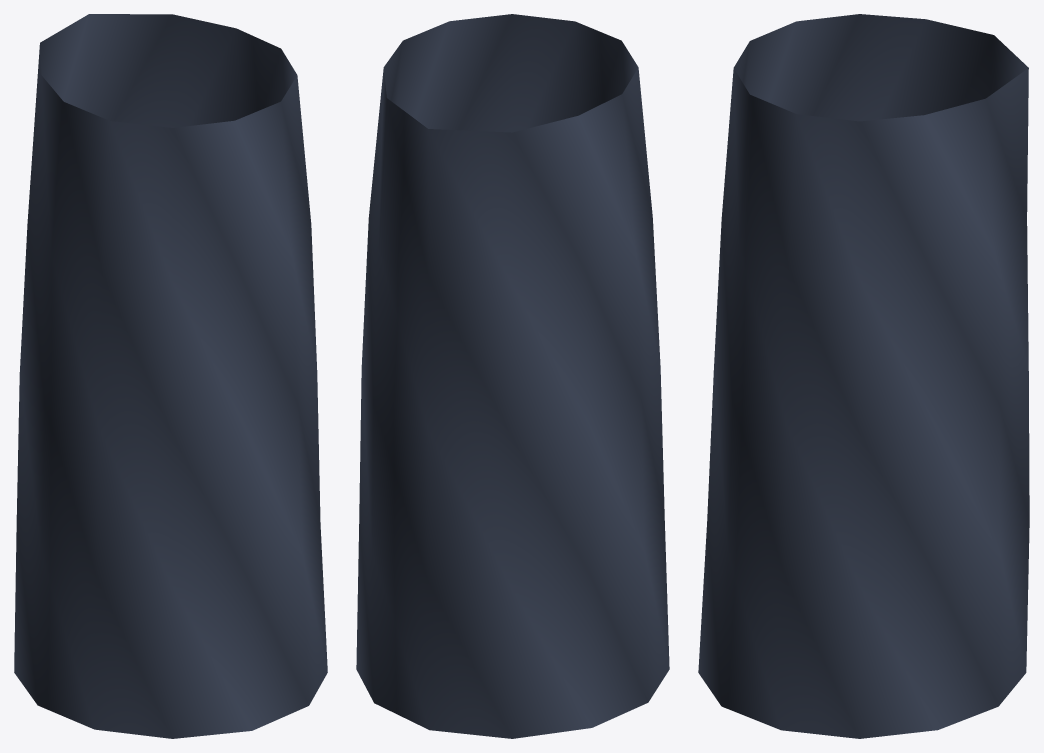
File: lead_armor_greave.L.glb
The picture shows the model from 3 angles, left to right: view 1: azimuth 30°, elevation 25°; view 2: azimuth 150°, elevation 25°; view 3: azimuth 270°, elevation 25°; orthographic projection.
Parts seen in each view (by area): view 1: lead_armor_greave.L; view 2: lead_armor_greave.L; view 3: lead_armor_greave.L.
Part boxes in pixels (x1=…): lead_armor_greave.L: x1=14, y1=14, x2=327, y2=738; lead_armor_greave.L: x1=356, y1=14, x2=669, y2=738; lead_armor_greave.L: x1=698, y1=14, x2=1029, y2=738.
Bounding box in the file's own units: 0.1774 × 0.3767 × 0.187.
